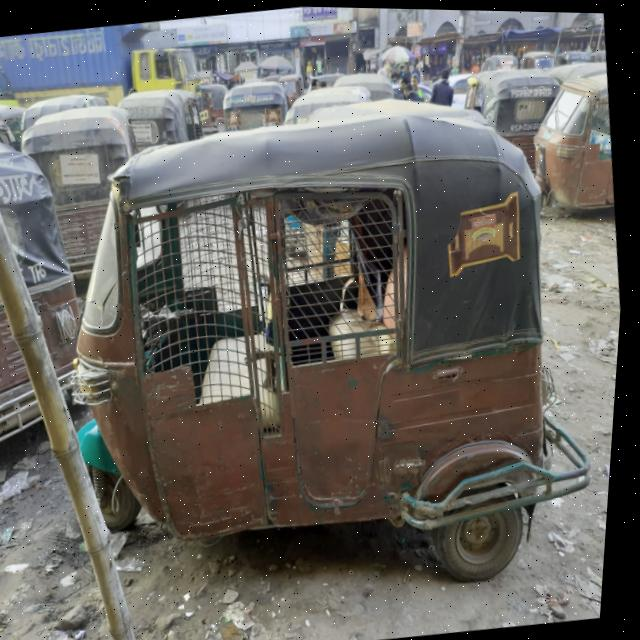cng: (10, 71, 593, 640)
